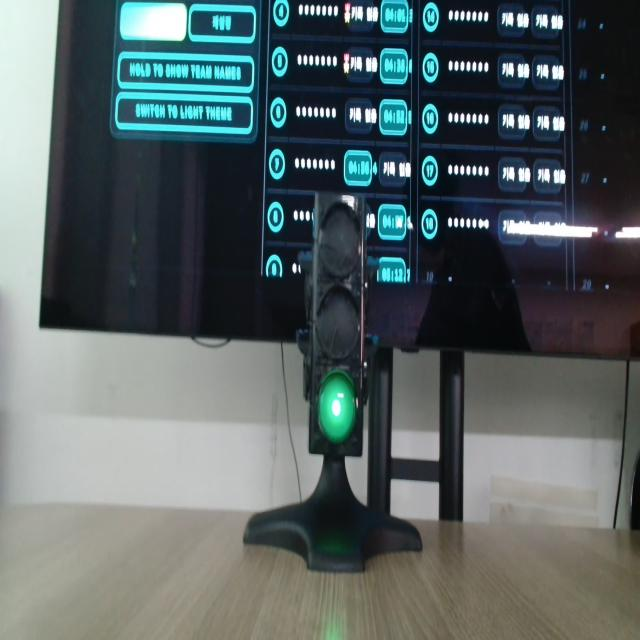green_light: (318, 371, 356, 443)
